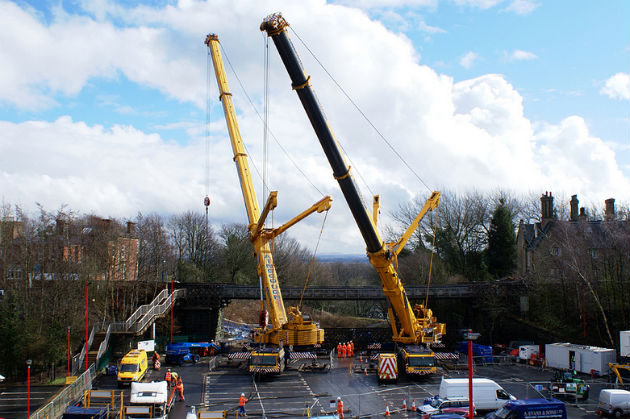crane: (258, 14, 439, 379), (201, 33, 315, 367)
